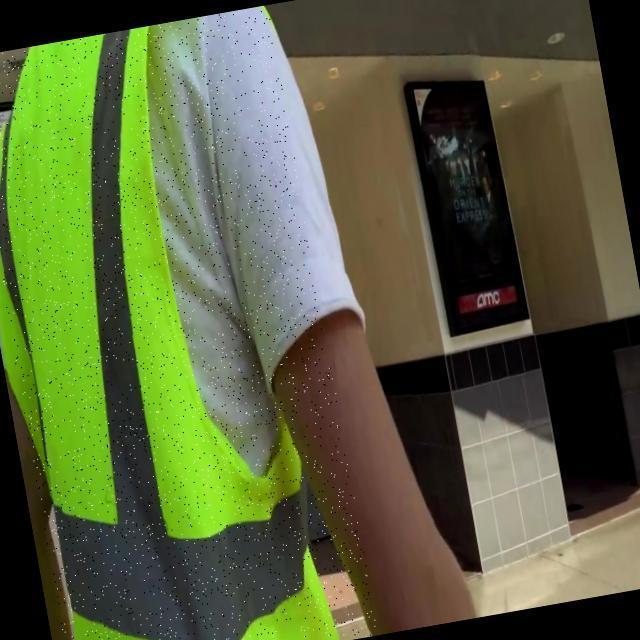vest: (0, 4, 378, 640)
